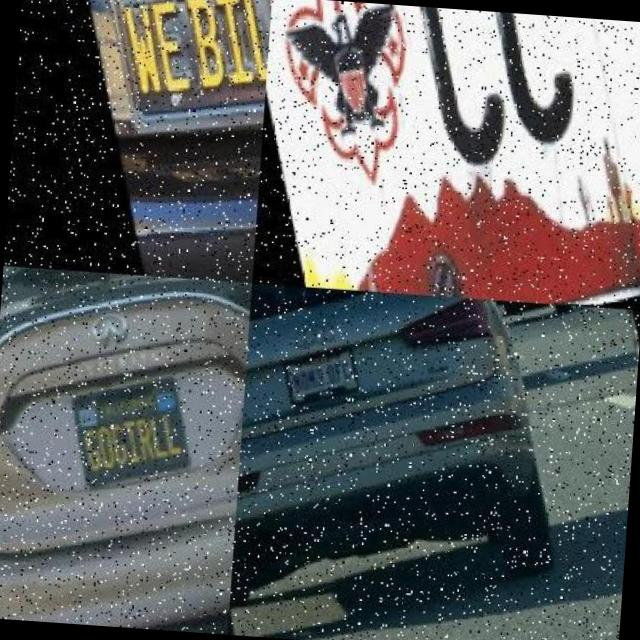LicensePlate: (351, 2, 640, 262), (79, 0, 271, 172), (63, 364, 195, 508), (281, 349, 358, 408)
